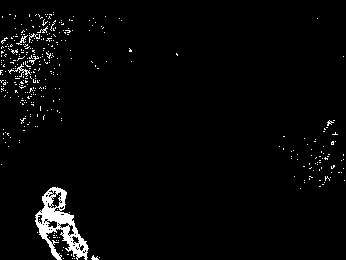person: (31, 184, 104, 260)
